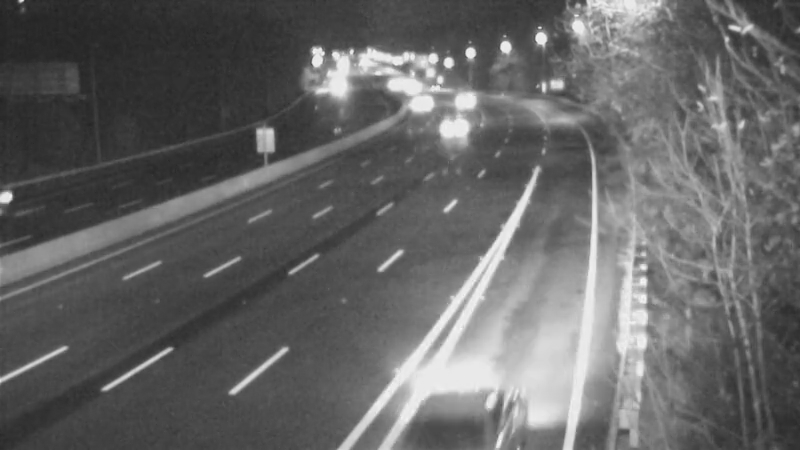vehicle: (408, 354, 518, 450), (408, 62, 458, 112), (440, 80, 490, 130), (392, 78, 442, 128), (429, 100, 479, 150)
